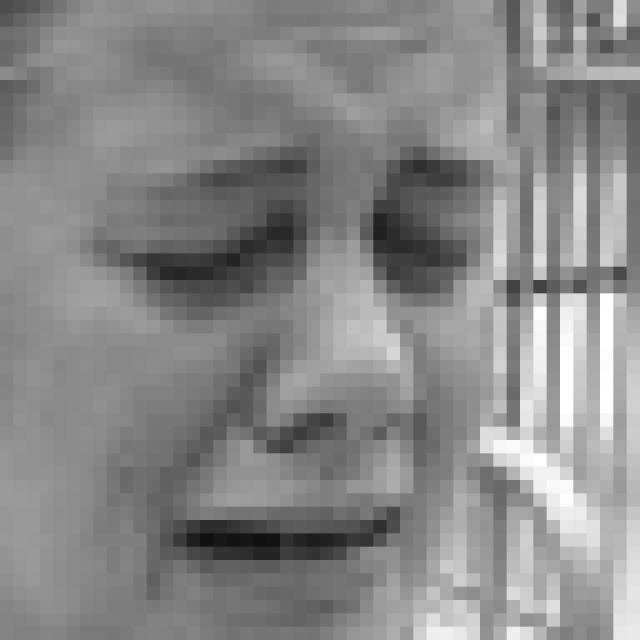sad: (68, 129, 487, 622)
